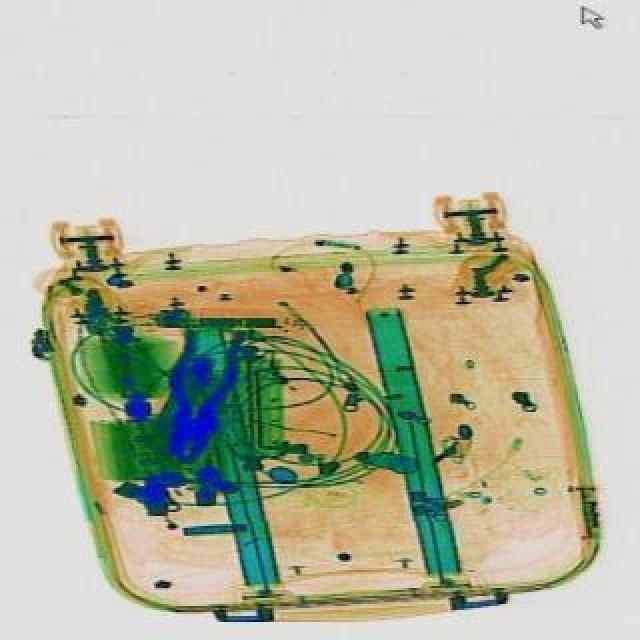wrench: (144, 318, 244, 472)
